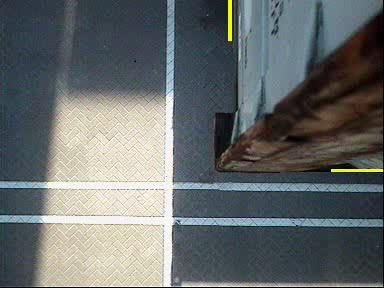groundmarker_2: (127, 184, 189, 225)
